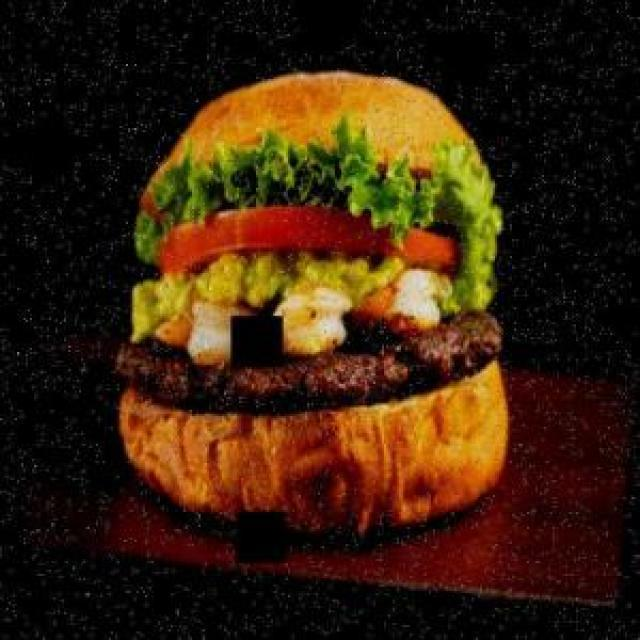Burger: (115, 70, 512, 538)
